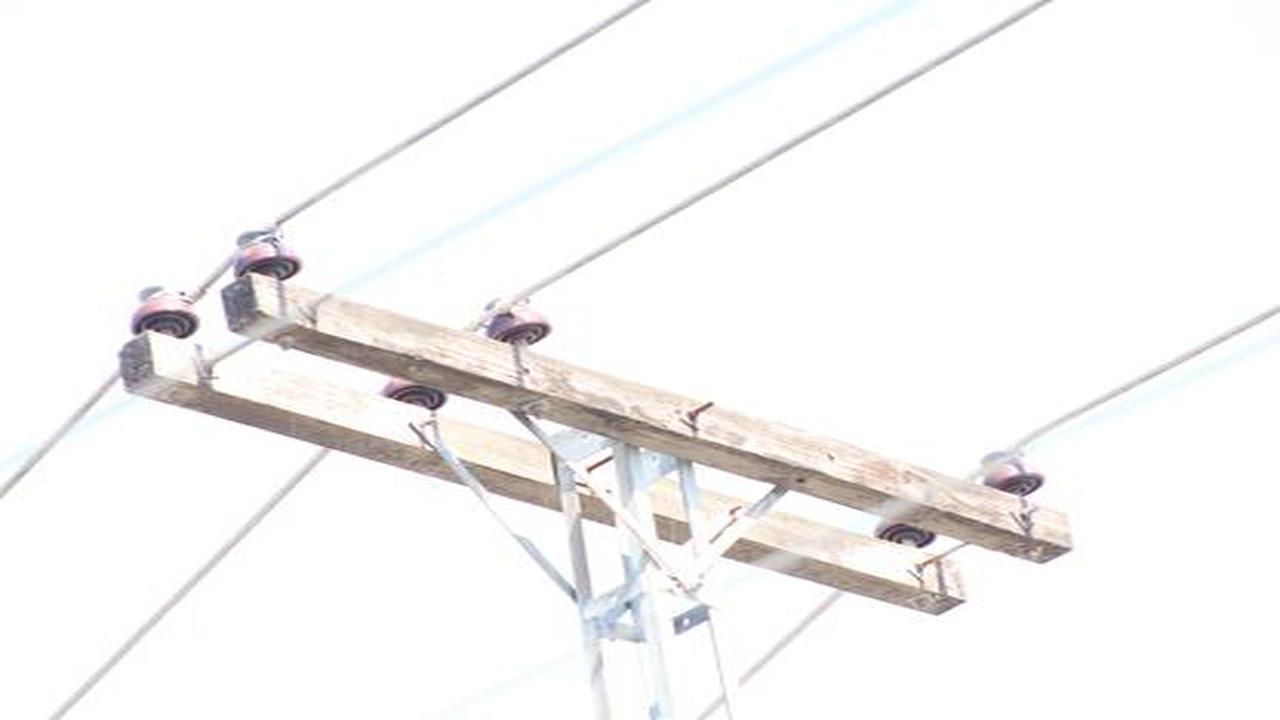insulator_pin: (127, 281, 202, 341), (231, 223, 304, 282), (481, 292, 552, 349), (978, 446, 1045, 500)
